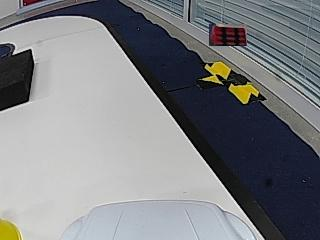block: (0, 49, 33, 111)
cone: (0, 218, 22, 239)
